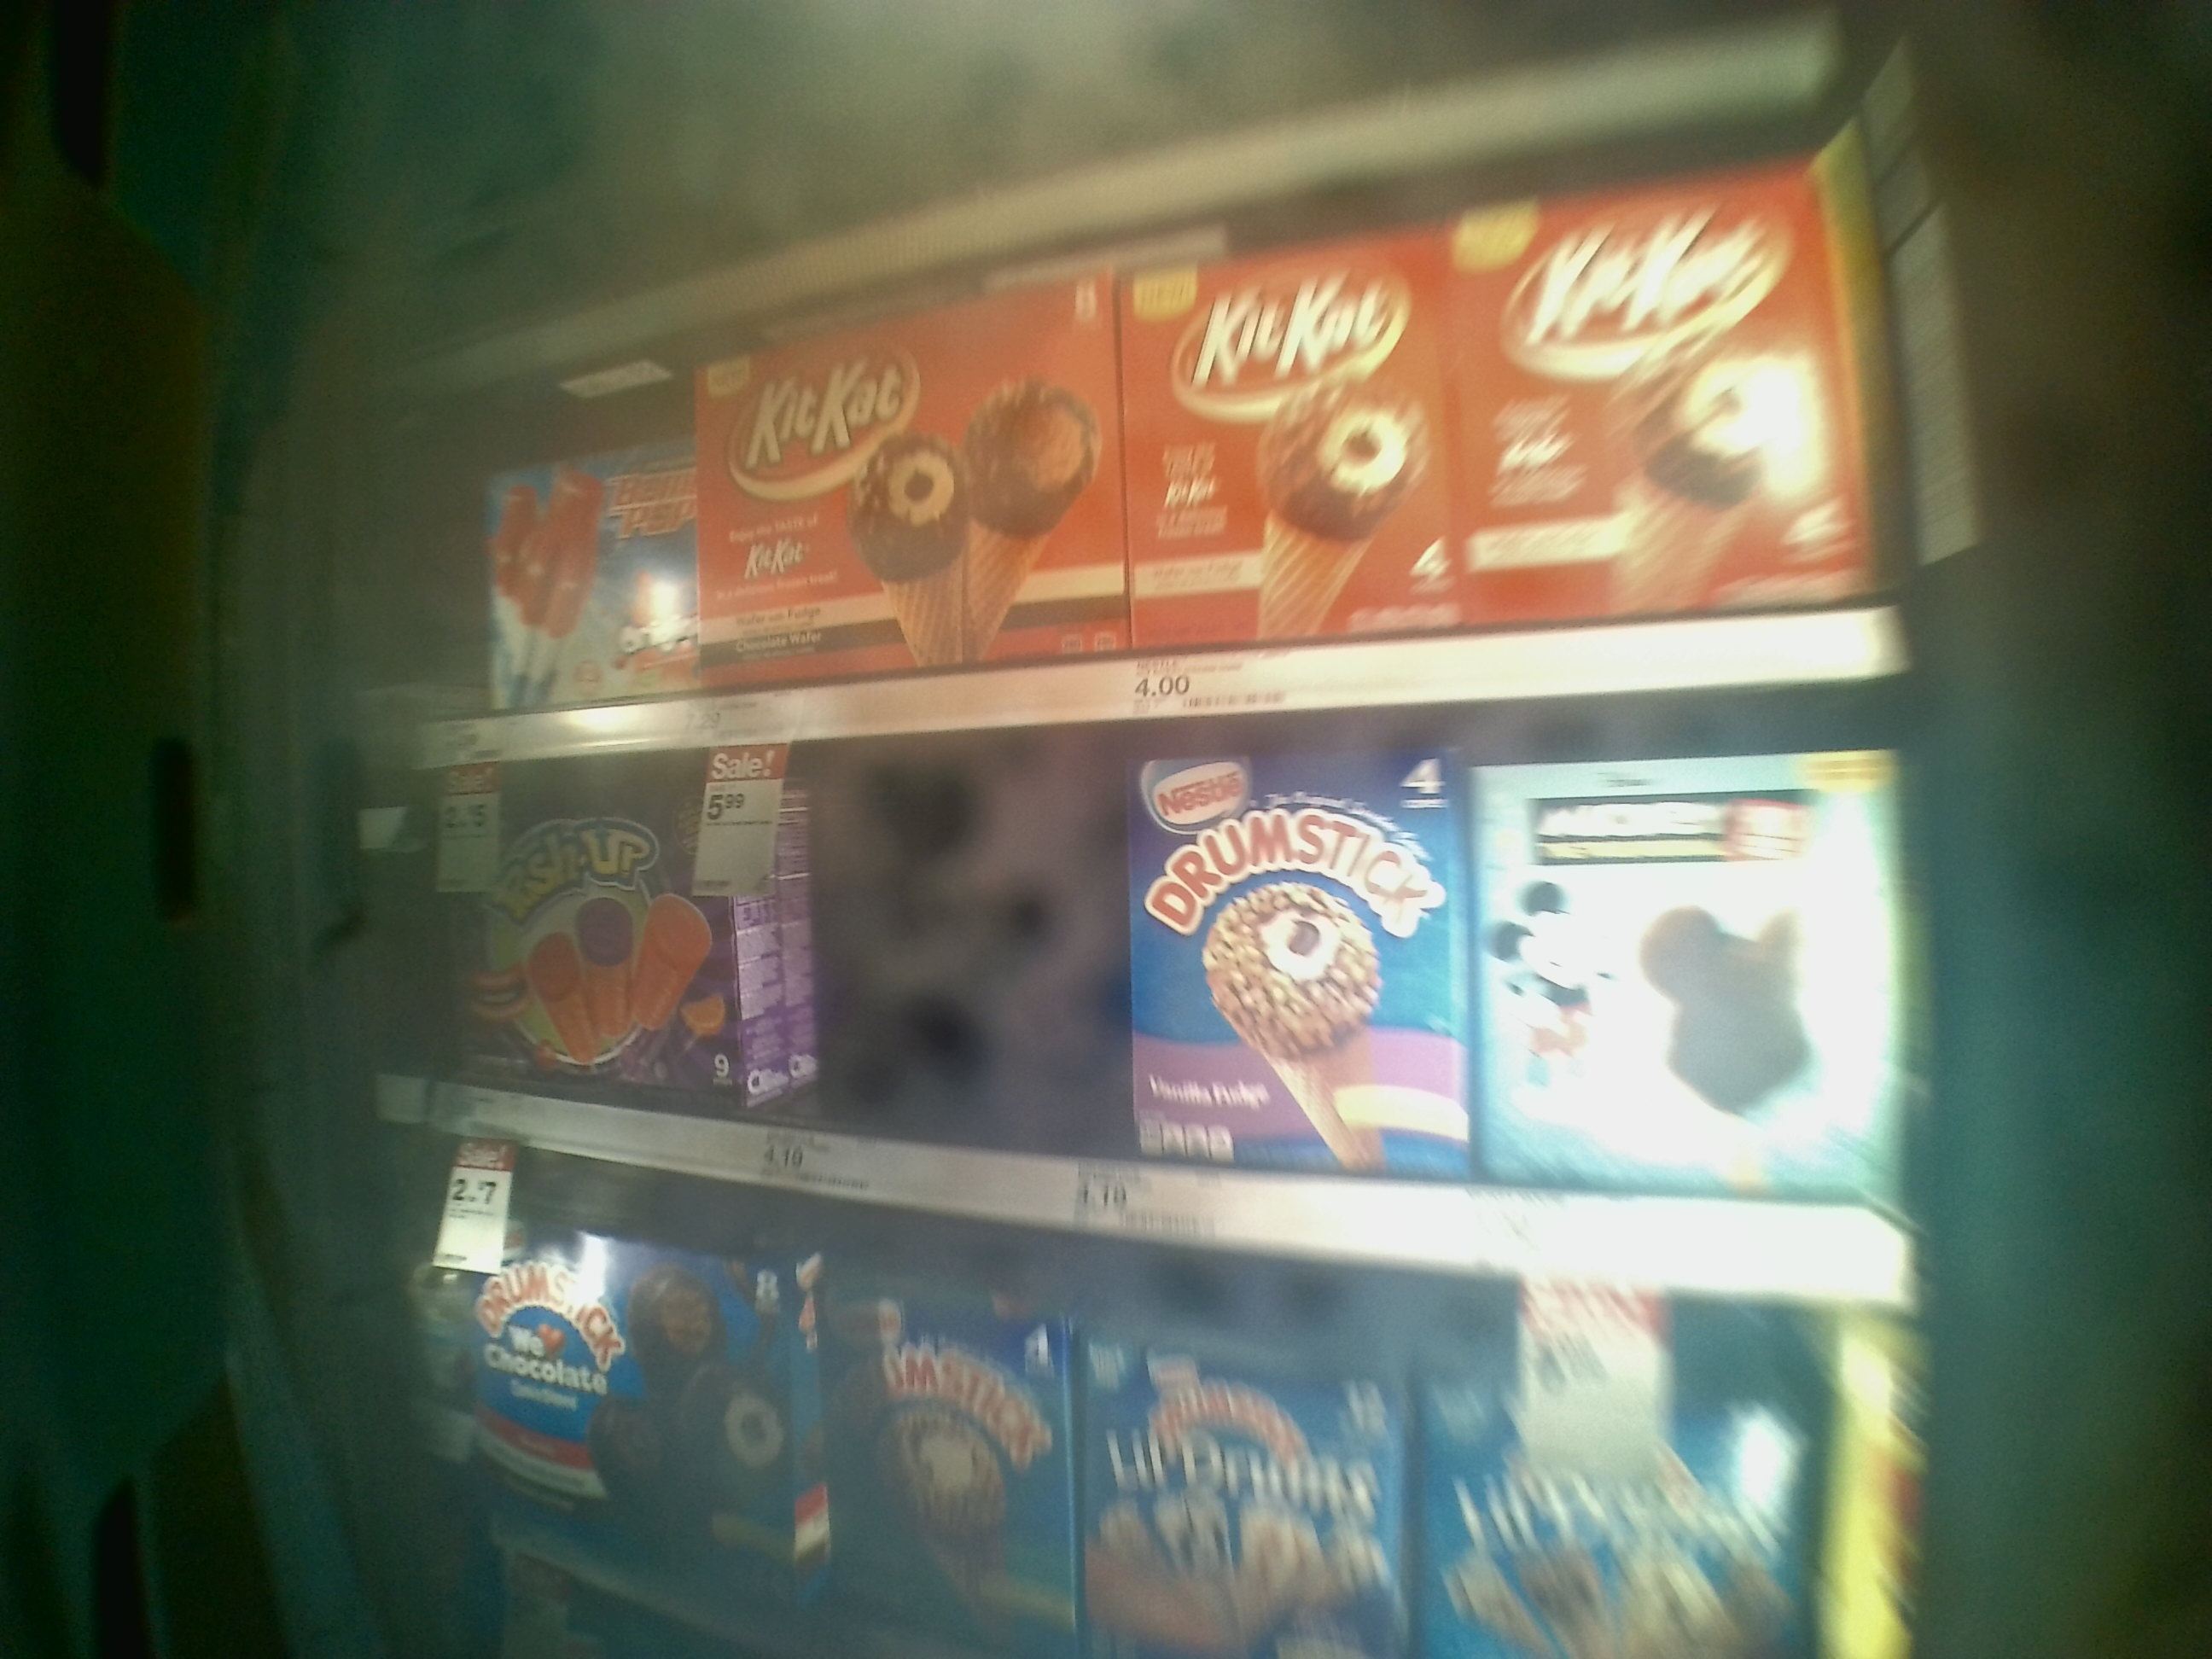shelf: (369, 694, 1923, 1305), (409, 136, 1897, 769)
